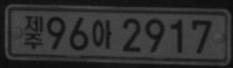1: (169, 18, 188, 53)
2: (121, 16, 141, 51)
6: (68, 16, 89, 51)
7: (190, 18, 213, 53)
9: (144, 17, 165, 52), (46, 15, 66, 49)
아: (91, 18, 112, 49)
제주_V: (23, 14, 44, 50)
